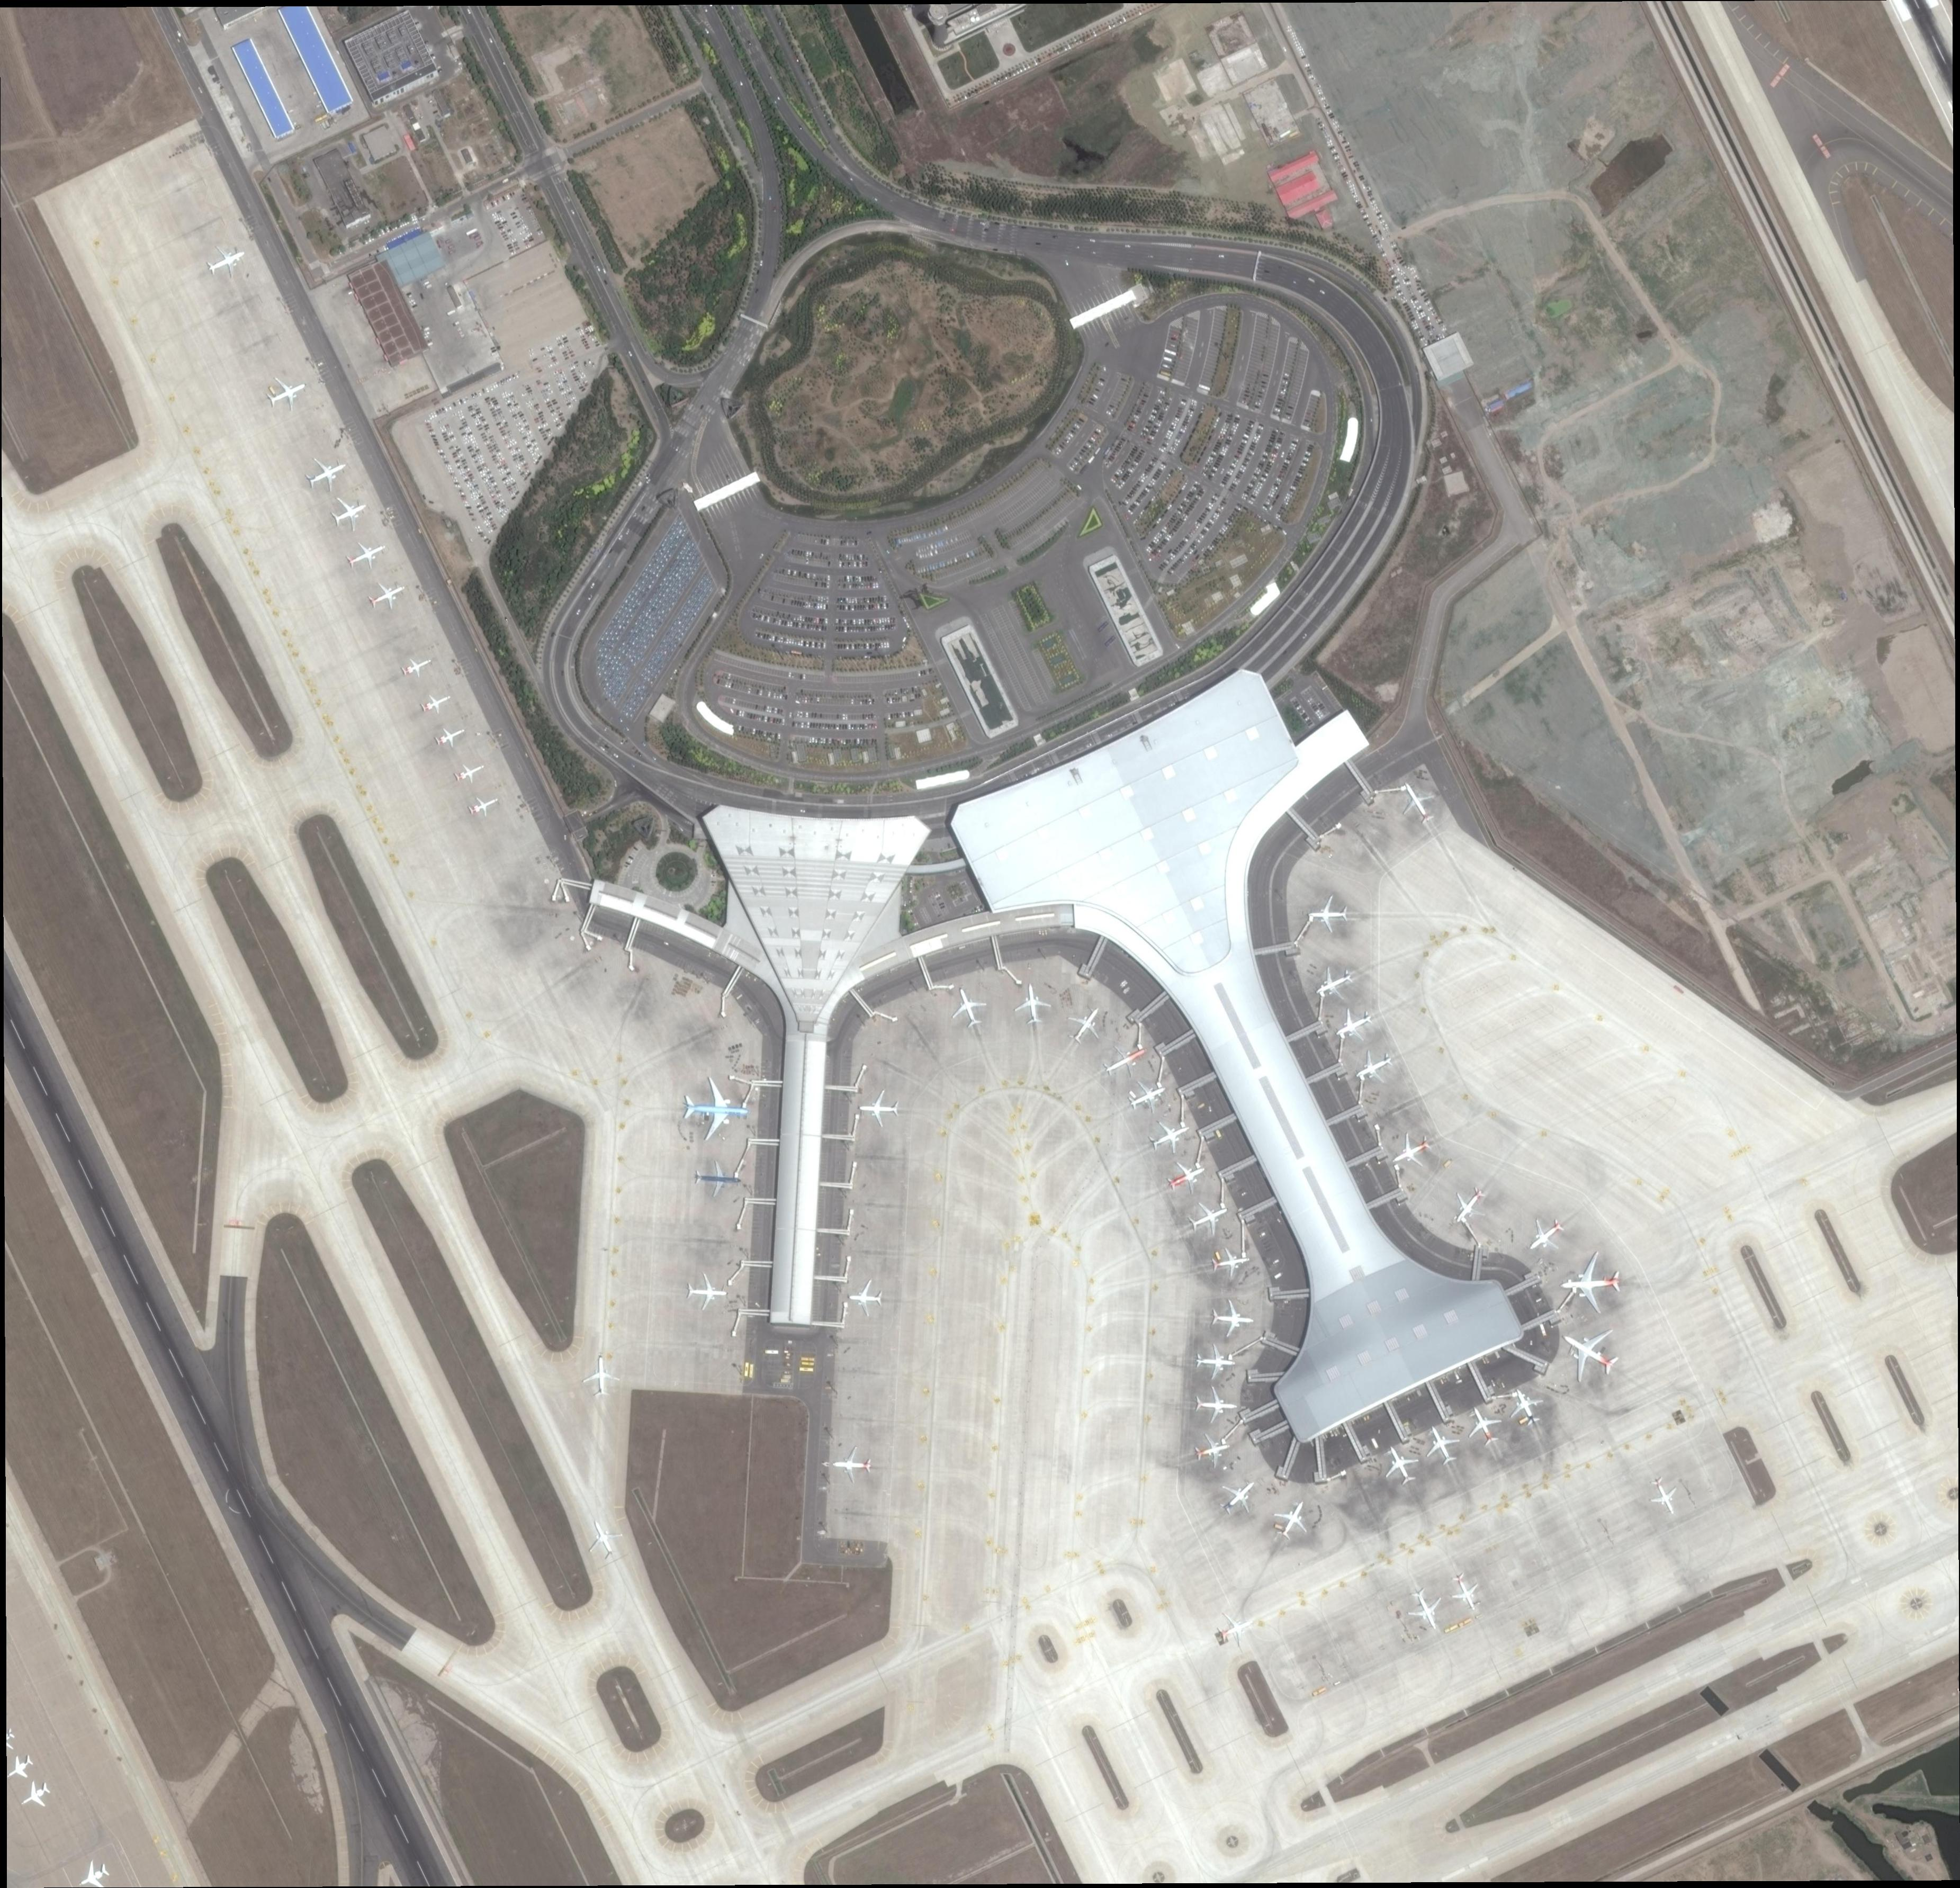plane: (1554, 1314, 1629, 1386), (672, 1080, 752, 1139), (1556, 1260, 1626, 1309), (1445, 1181, 1502, 1234), (1393, 777, 1445, 831), (1213, 1472, 1263, 1524), (1060, 999, 1109, 1053), (1379, 1440, 1428, 1494), (1265, 1494, 1316, 1545), (1522, 1209, 1572, 1260), (1505, 1381, 1551, 1435), (303, 450, 352, 499), (1402, 1585, 1449, 1636), (1183, 1195, 1232, 1242), (1309, 961, 1358, 1008), (1419, 1421, 1467, 1470), (1145, 1115, 1195, 1160), (1099, 1039, 1150, 1085), (1388, 1129, 1438, 1174), (1463, 1402, 1508, 1452), (262, 371, 311, 416), (583, 1515, 628, 1564), (1349, 1045, 1398, 1090), (947, 987, 994, 1032), (1332, 1001, 1377, 1048), (203, 240, 248, 285), (343, 535, 390, 579), (329, 492, 373, 537), (691, 1158, 742, 1197), (1012, 980, 1052, 1027), (1188, 1388, 1236, 1428), (364, 576, 408, 618), (1643, 1473, 1685, 1517), (1193, 1340, 1237, 1382), (1162, 1160, 1209, 1199), (684, 1270, 730, 1309), (1447, 1571, 1486, 1615), (586, 1353, 619, 1400), (1207, 1302, 1255, 1335), (19, 1776, 58, 1816), (1307, 898, 1351, 933), (1125, 1080, 1166, 1116), (1192, 1435, 1232, 1472), (845, 1283, 887, 1318), (72, 1857, 117, 1888), (395, 651, 436, 686), (1207, 1248, 1251, 1279), (450, 756, 488, 791), (416, 686, 453, 721), (432, 721, 471, 754), (835, 1447, 875, 1479), (7, 1748, 38, 1788), (861, 1094, 898, 1127), (466, 791, 501, 824), (7, 1725, 21, 1753)
